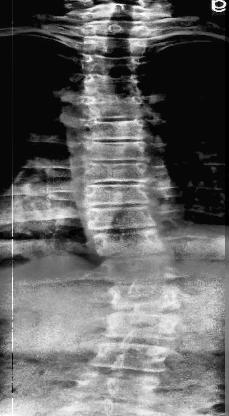Vertebrae: (92, 338, 172, 376), (108, 283, 188, 317), (107, 308, 175, 346), (88, 228, 174, 258), (78, 156, 156, 186), (103, 259, 183, 287), (82, 94, 152, 126), (84, 208, 164, 234), (83, 182, 157, 208), (82, 139, 154, 165), (84, 36, 154, 61), (85, 52, 146, 78), (87, 119, 149, 144), (86, 71, 142, 95), (87, 19, 149, 39)
